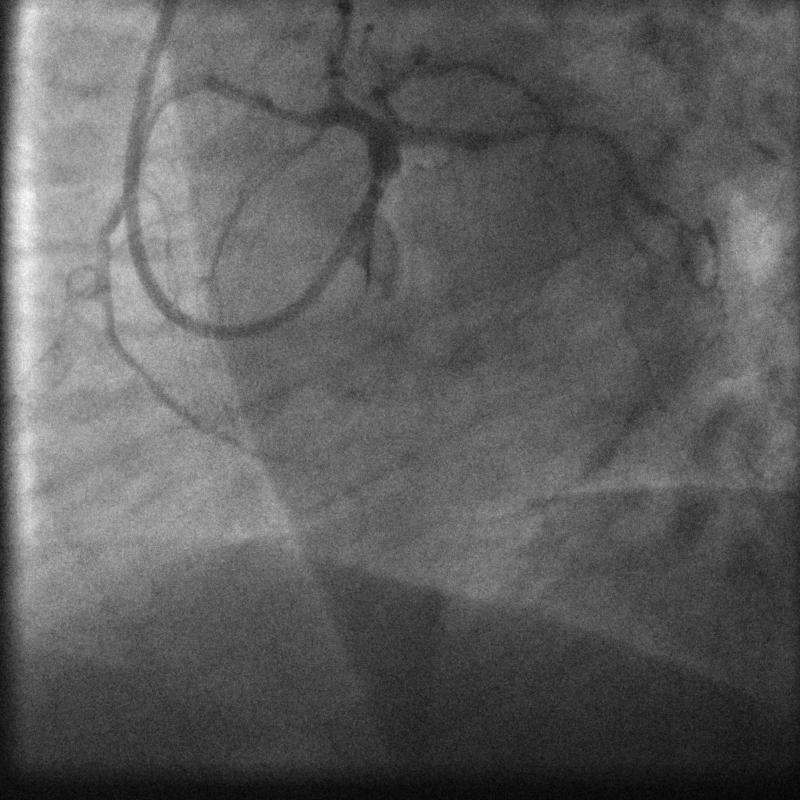Stenosis: (269, 91, 328, 137)
